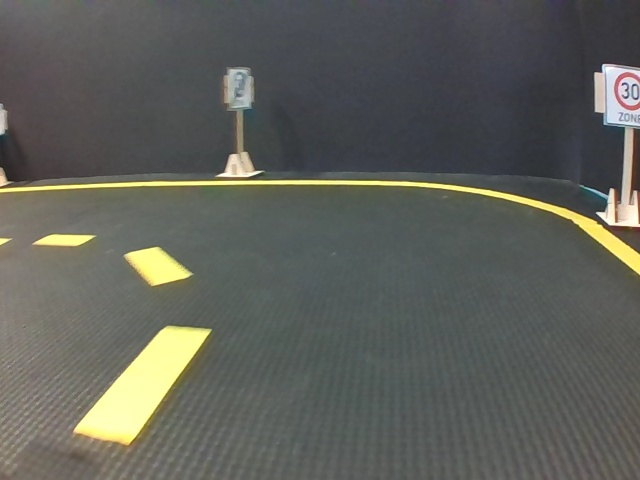30: (605, 63, 640, 125)
no30: (226, 68, 252, 109)
